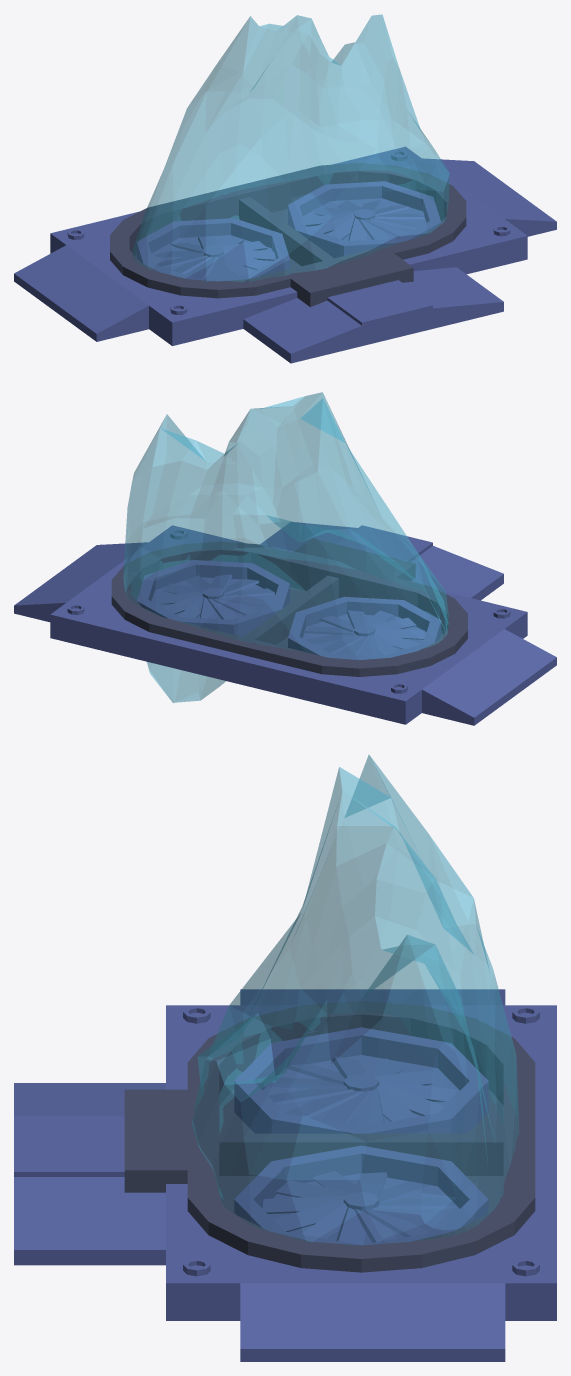
Rendered from Ventilation+Glace.fbx.
3 views of the same model, one above another, from view 1: azimuth 30°, elevation 25°; view 2: azimuth 150°, elevation 25°; view 3: azimuth 270°, elevation 25° (orthographic). The views are drawn at different scales.
Parts seen in each view (by area): view 1: Sphere, Cube, Cylinder, Cylinder.005, Cube.001, Cylinder.003; view 2: Sphere, Cube, Cylinder, Cylinder.005, Cube.001, Cylinder.003; view 3: Sphere, Cube, Cylinder.005, Cylinder, Cube.001, Cylinder.003.
Part boxes in pixels (box(x1,y1,x2,y2)): Sphere: box(132, 14, 449, 281); Cube: box(14, 146, 556, 363); Cylinder: box(110, 163, 466, 307); Cylinder.005: box(136, 181, 440, 281); Cube.001: box(239, 197, 333, 266); Cylinder.003: box(67, 150, 510, 314); Sphere: box(123, 392, 448, 702); Cube: box(14, 522, 556, 725); Cylinder: box(111, 538, 467, 676); Cylinder.005: box(137, 560, 441, 659); Cube.001: box(244, 575, 338, 644); Cylinder.003: box(67, 529, 510, 693); Sphere: box(192, 755, 519, 1244); Cube: box(14, 989, 556, 1361); Cylinder.005: box(234, 1027, 488, 1245); Cylinder: box(124, 1001, 535, 1272); Cube.001: box(219, 1133, 503, 1175); Cylinder.003: box(183, 1006, 539, 1276).
Bounding box in the file's own units: 428 × 272 × 273.
